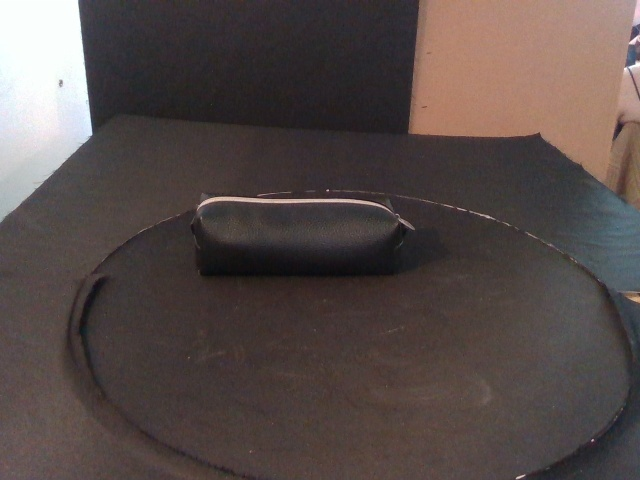pencil_case: (190, 192, 406, 279)
